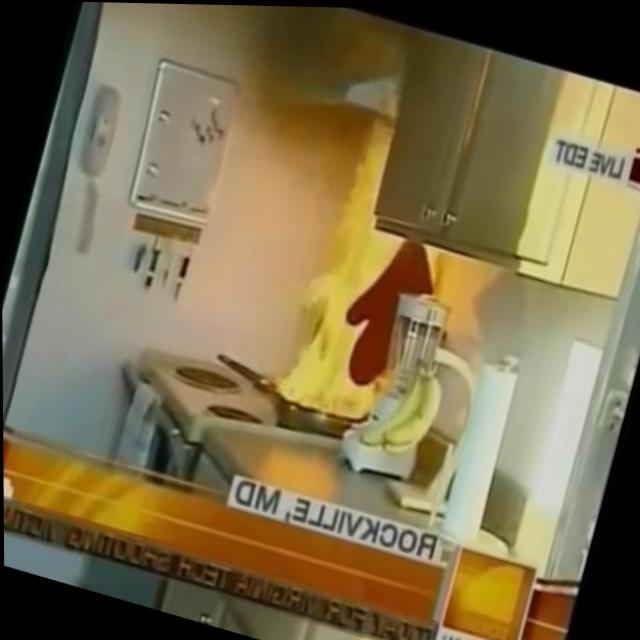fire: (267, 103, 476, 431)
